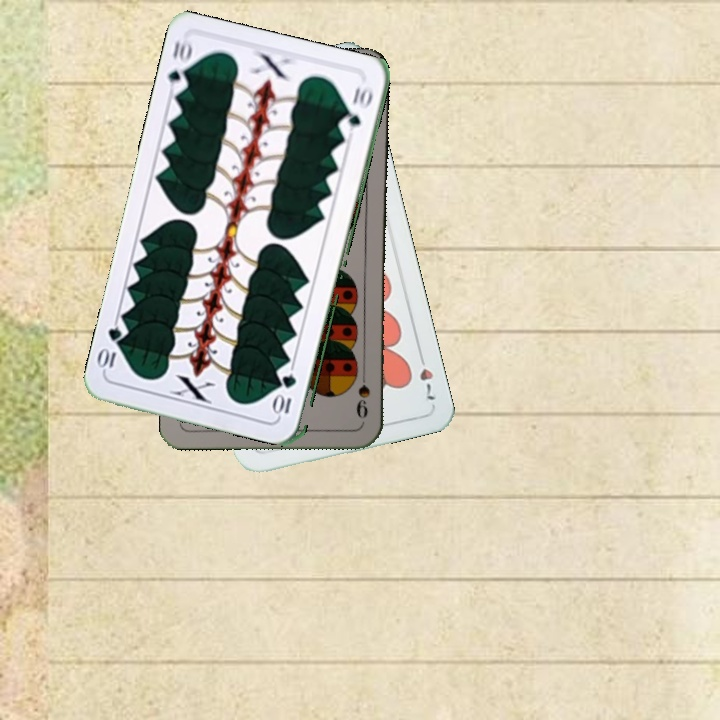G10: (164, 36, 195, 96), (273, 369, 299, 419)
H7: (414, 348, 438, 403)
S9: (353, 364, 373, 421)
